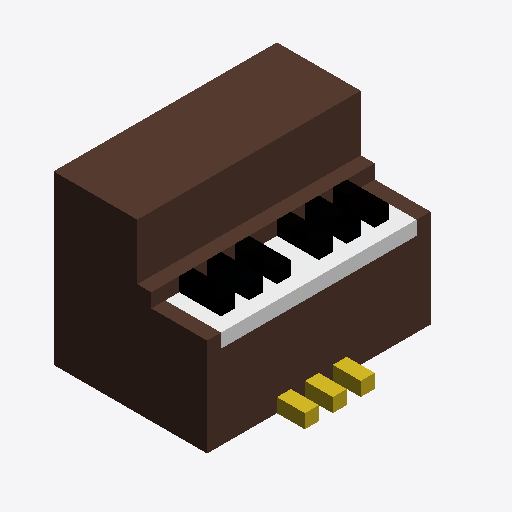
Isometric view (azimuth 45°, elevation 35.3°) of a Minecraft model made of 22 cuboids, textured from the same repository.
Visible parts, largest first — element 15, element 16, element 12, element 14, element 17, element 22, element 18, element 20, element 6, element 19, element 21, element 13 (+10 smaller).
Boxes of the visible parts, box(x1,y1,x2,y2) form: element 15: box(54, 43, 360, 315); element 16: box(54, 228, 430, 452); element 12: box(137, 155, 374, 323); element 14: box(151, 300, 220, 356); element 17: box(333, 180, 388, 227); element 22: box(179, 268, 234, 315); element 18: box(305, 196, 360, 243); element 20: box(235, 236, 290, 283); element 6: box(264, 236, 346, 291); element 19: box(277, 212, 332, 259); element 21: box(207, 252, 262, 299); element 13: box(361, 180, 430, 250).
Bounding box in the file's own units: 16 × 12 × 13.